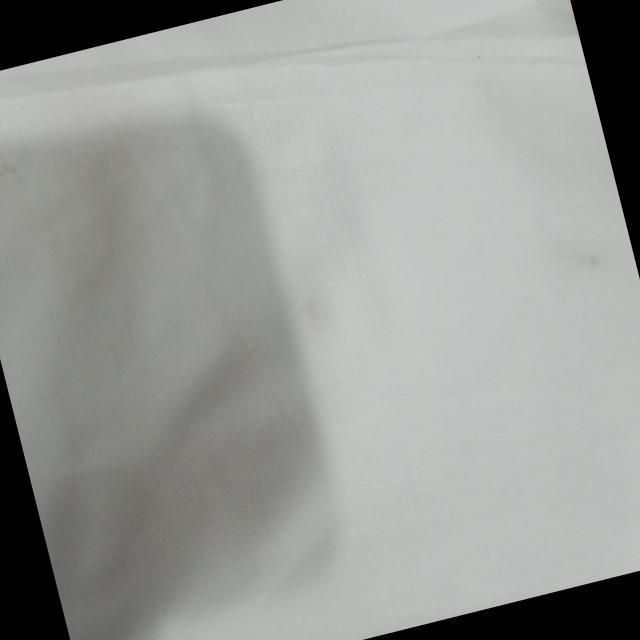stain: (560, 232, 612, 289), (290, 280, 336, 338), (0, 133, 30, 195)
